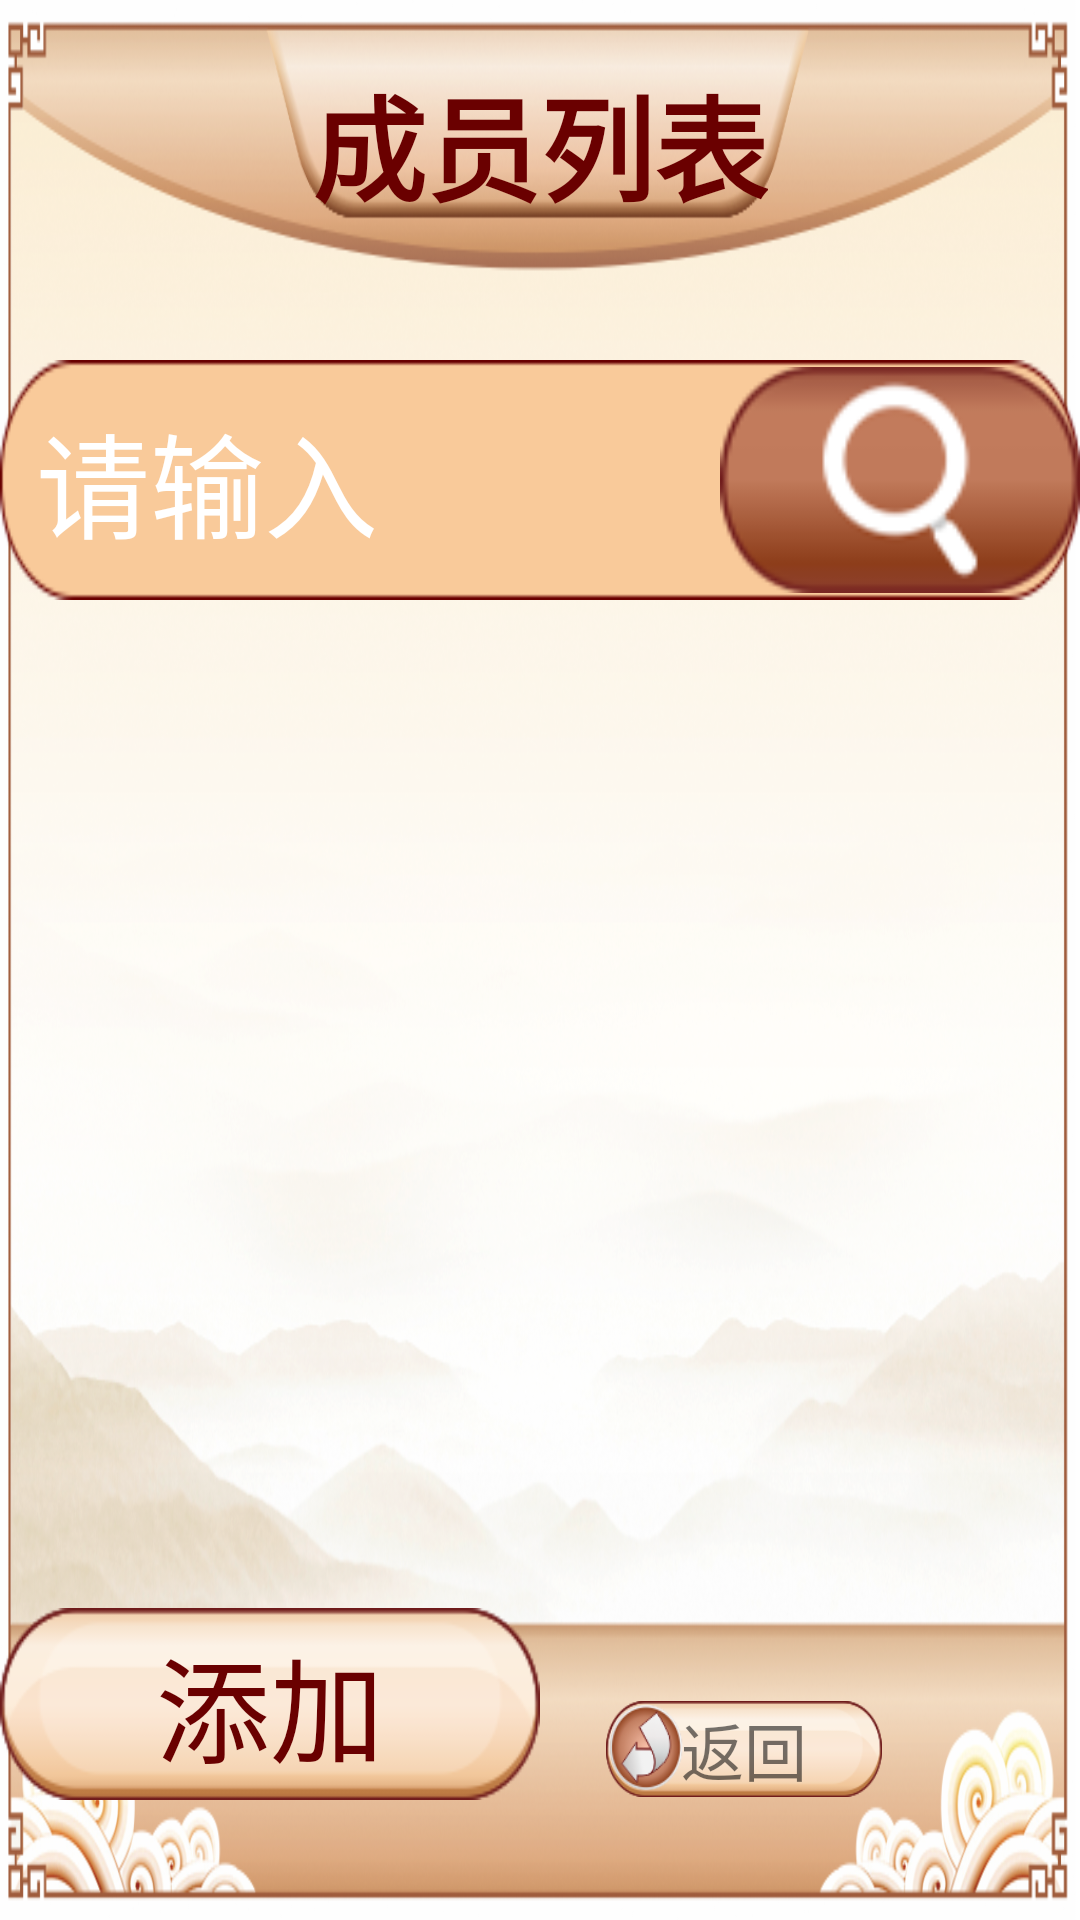

Named icons in this screenshot (1080px x 1920px) and their centers, [x,y]:
search: [900,480]
